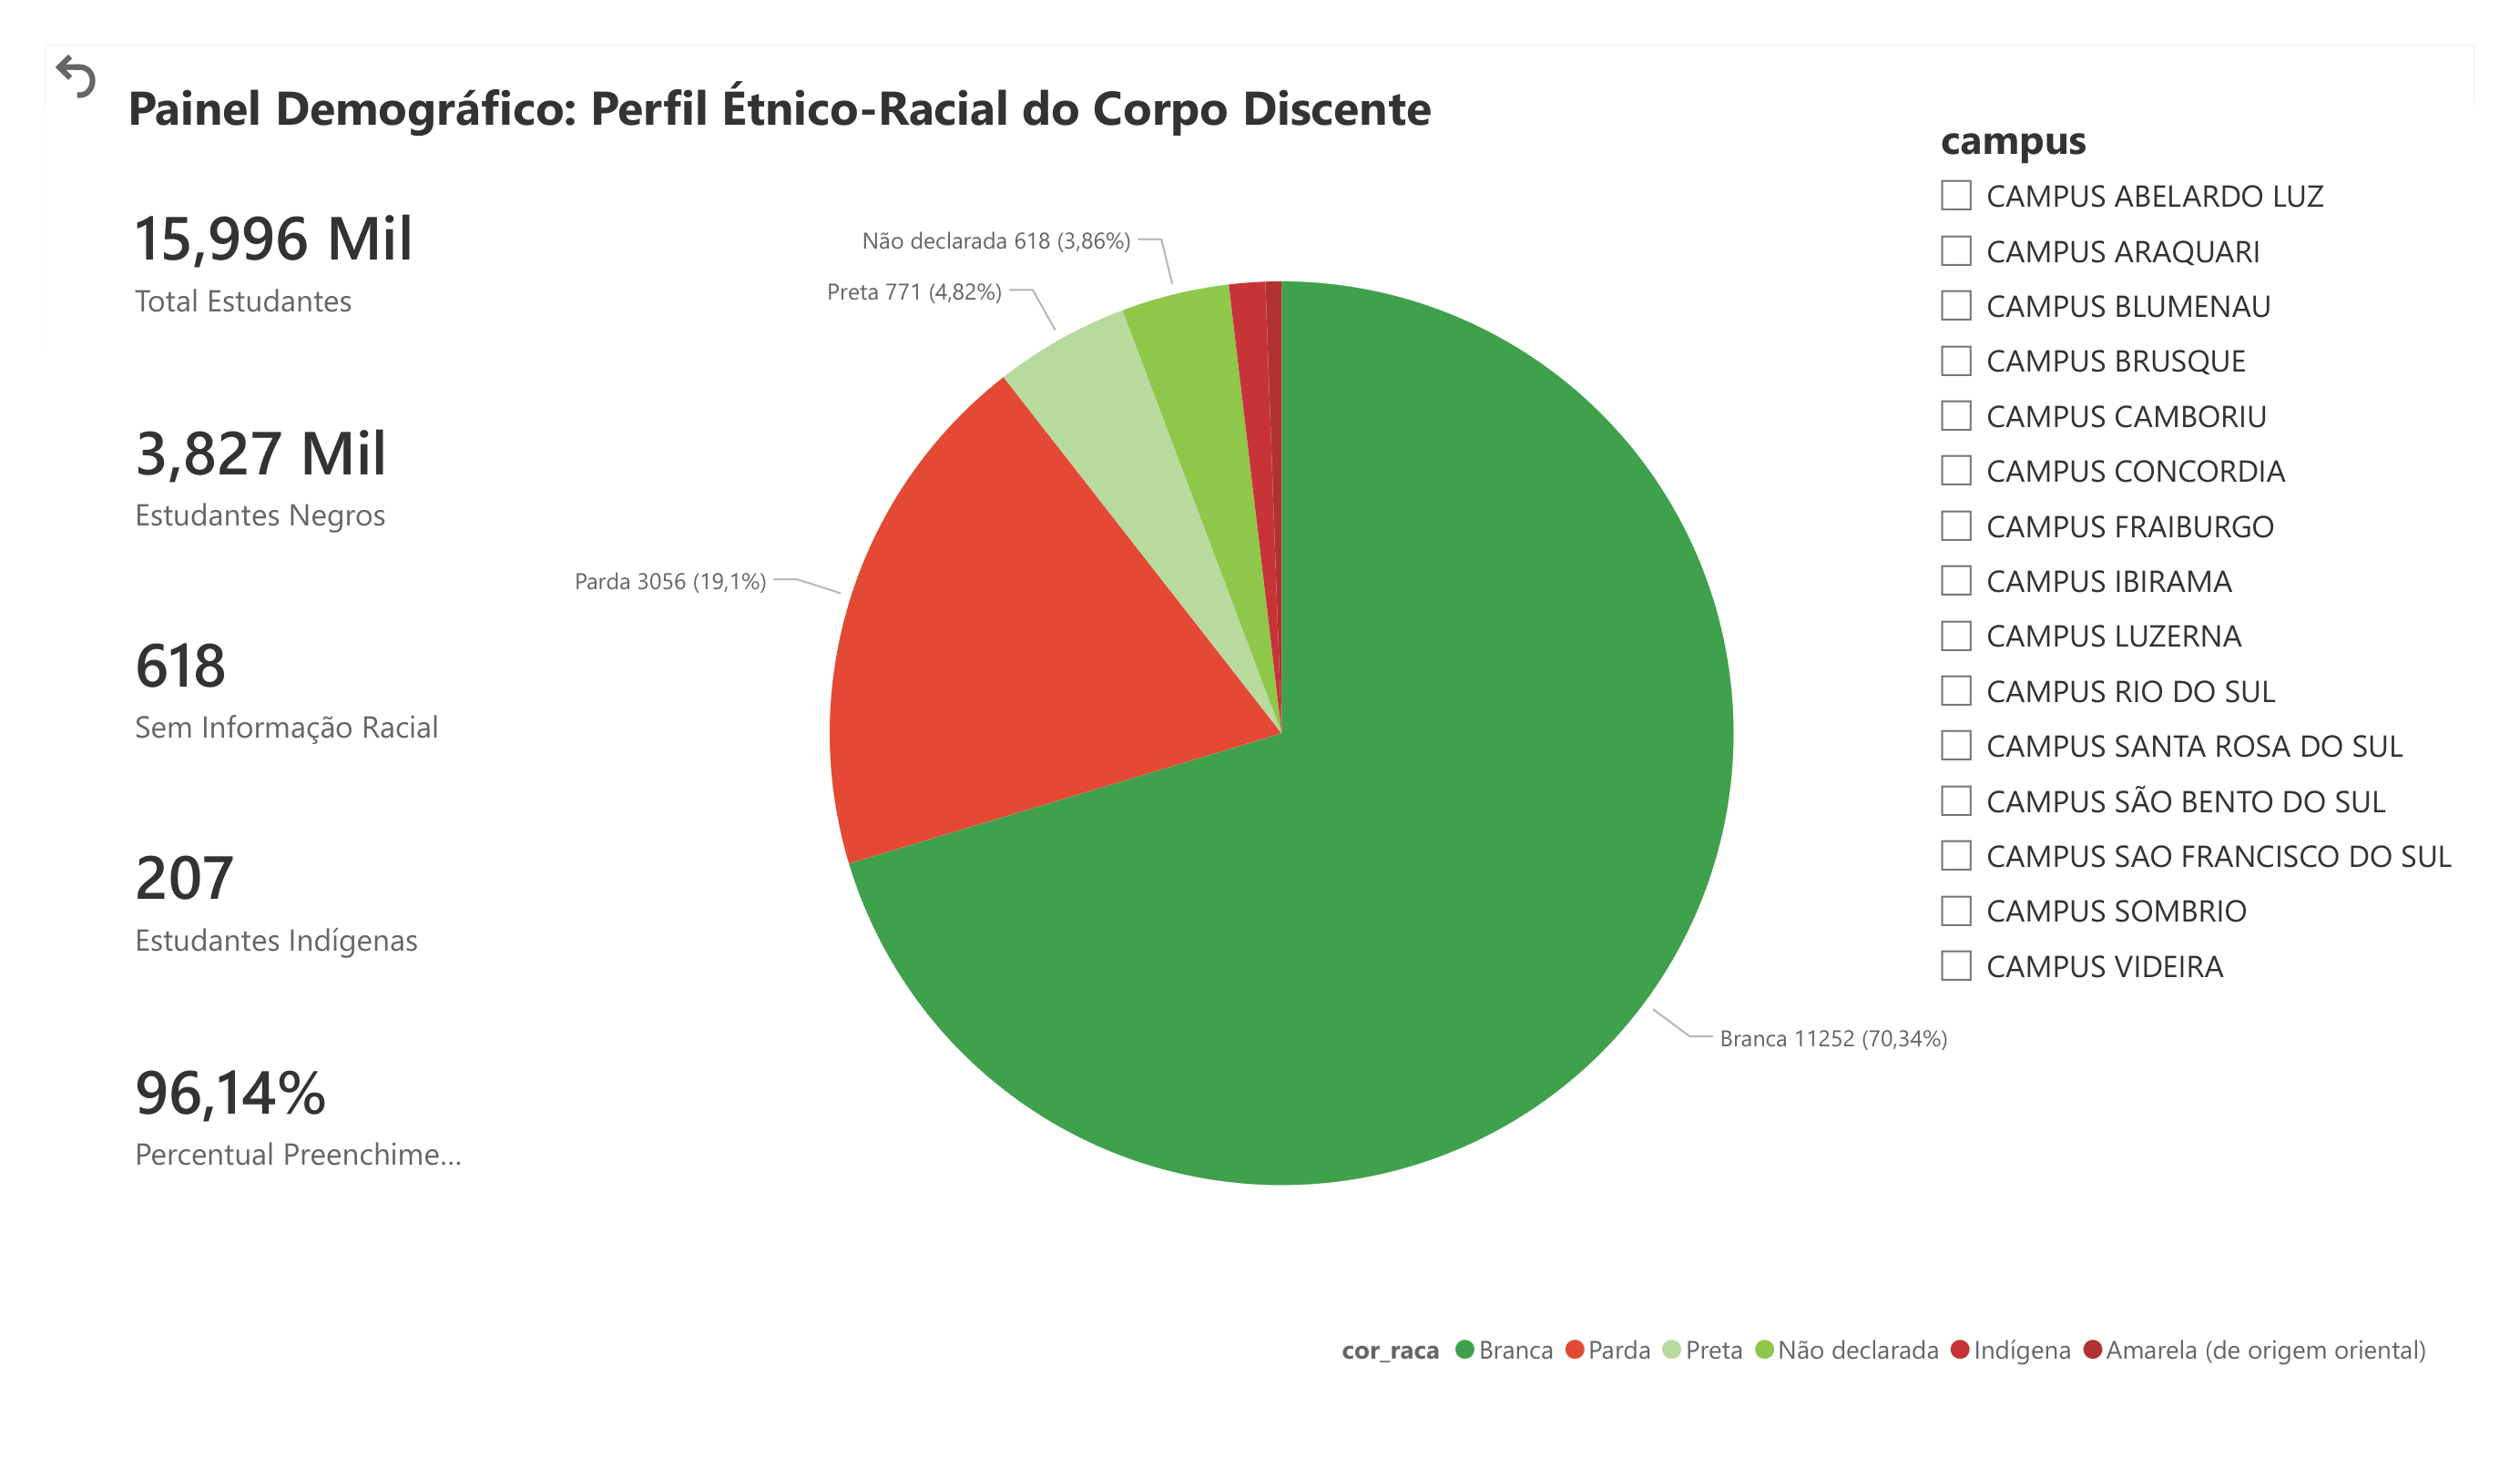

What the dashboard file says about the page in this screenshot:
{"tool":"powerbi","page":{"name":"Página 1","canvas":[1280,720],"ordinal":0},"visuals":[{"type":"donutChart","fields":{"Category":["public dados_ifc_neabi.cor_raca"],"Y":["CountNonNull(public dados_ifc_neabi.cor_raca)"]},"box":[0,53.3,820,511.7],"z":0},{"type":"tableEx","fields":{"Values":["public dados_ifc_neabi.campus"]},"box":[0,565.6,1221.1,154.4],"z":1000},{"type":"slicer","fields":{"Values":["public dados_ifc_neabi.campus"]},"box":[820,53.3,460,512.2],"z":2000},{"type":"textbox","box":[0,0,1280,53.3],"z":3000}]}

Visuals, with their boxes on the page's 1280x720 design canvas (x1, y1, x2, y2). These are canvas units, not pixel positions in the 2520x1457 screenshot, which may show the page scaled, cropped or inside an application window:
donutChart - public dados_ifc_neabi.cor_raca x CountNonNull(public dados_ifc_neabi.cor_raca): {"x1": 0, "y1": 53, "x2": 820, "y2": 565}
tableEx - public dados_ifc_neabi.campus: {"x1": 0, "y1": 566, "x2": 1221, "y2": 720}
slicer - public dados_ifc_neabi.campus: {"x1": 820, "y1": 53, "x2": 1280, "y2": 566}
textbox: {"x1": 0, "y1": 0, "x2": 1280, "y2": 53}
